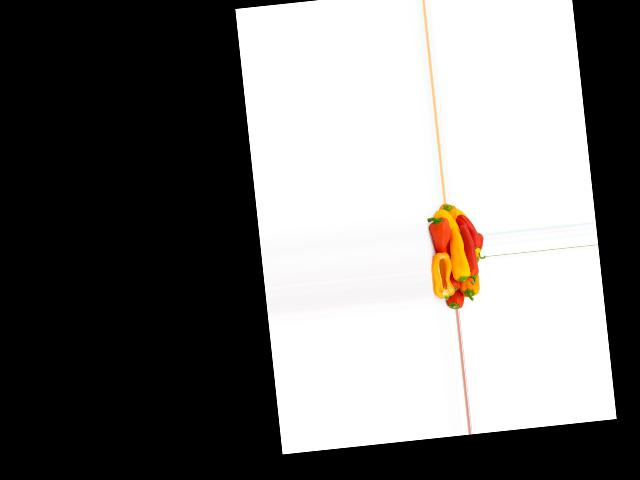bell_pepper: (444, 278, 468, 310)
